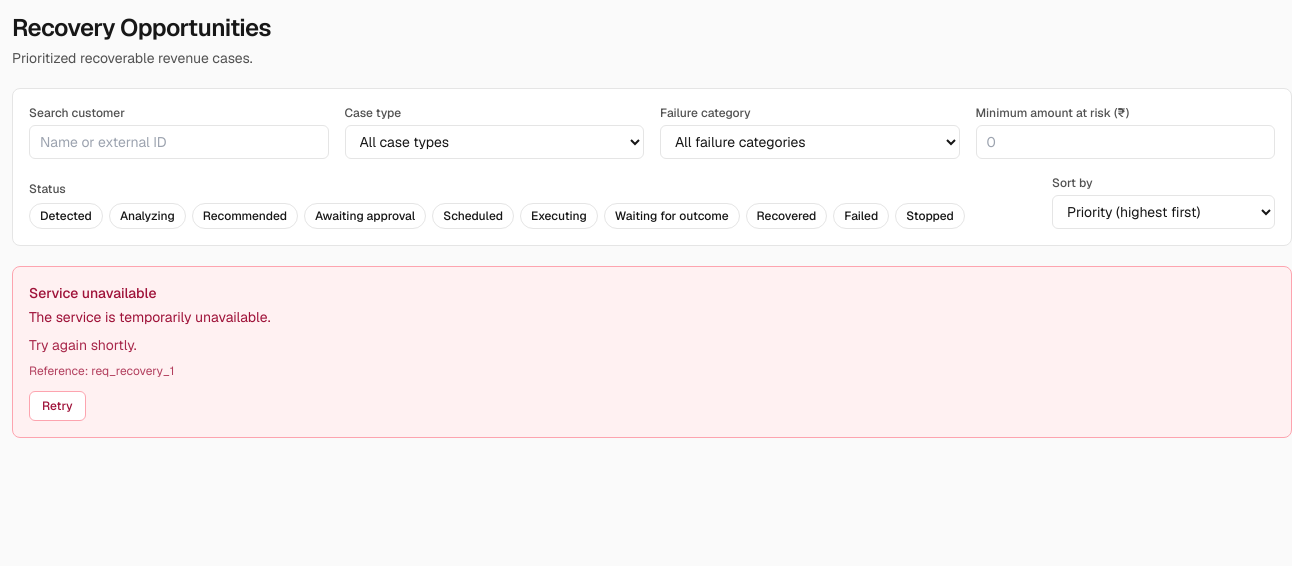
it: RecoveryClient › shows an inline error with retry and preserves the active filters
This screenshot has width=1292, height=566.
Expected: the text "Reference: req_recovery_1" is shown, [29,363,174,379]
Expected: the search field labelled "Search customer" is shown, [29,125,328,159]
Step 1. Click the button "Retry" → (57, 406), box [29,391,86,421]
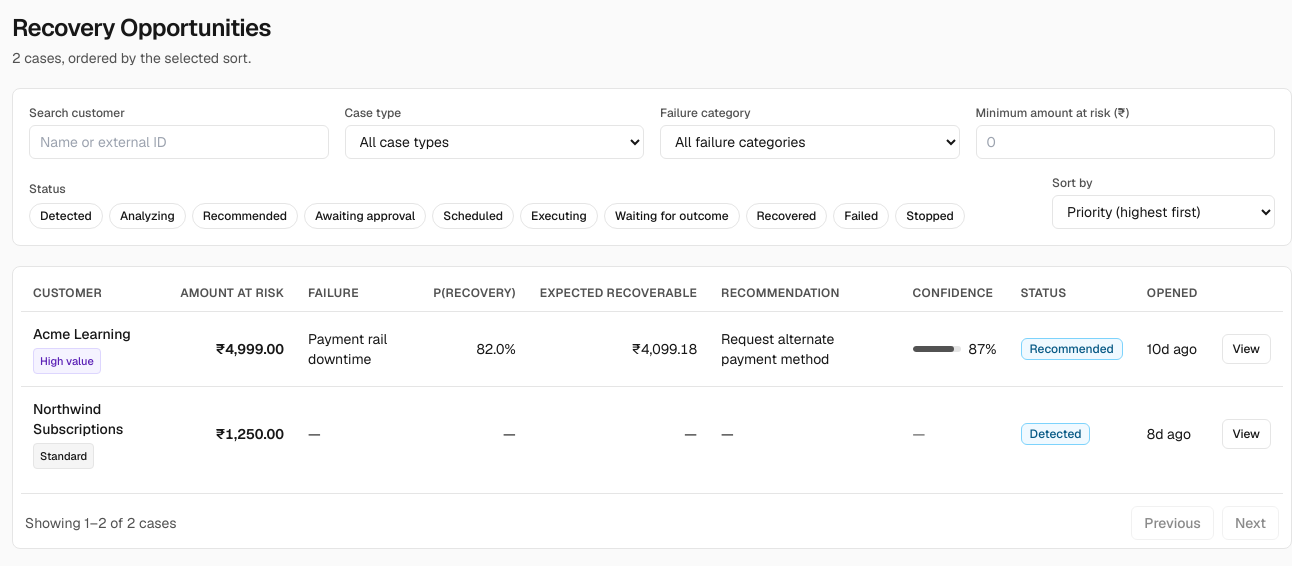
Expected: the table named "ordered by the selected sort" is shown, [21,275,1283,481]
Expected: the message is gone
